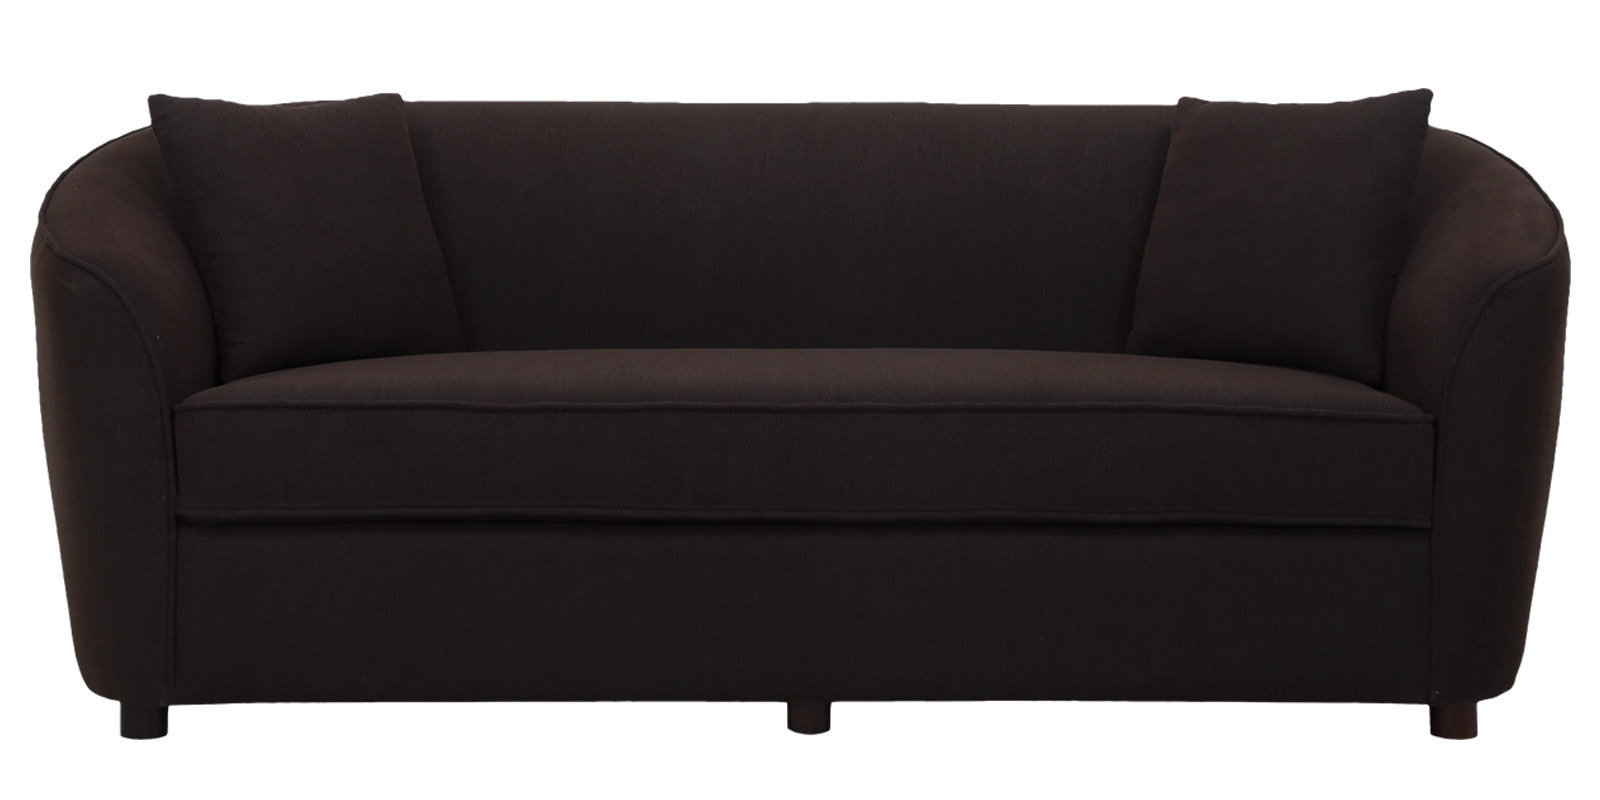Mamore Three Seater Sofa in Chestnut Brown Color by CasaCraft: (28, 90, 1572, 739)
